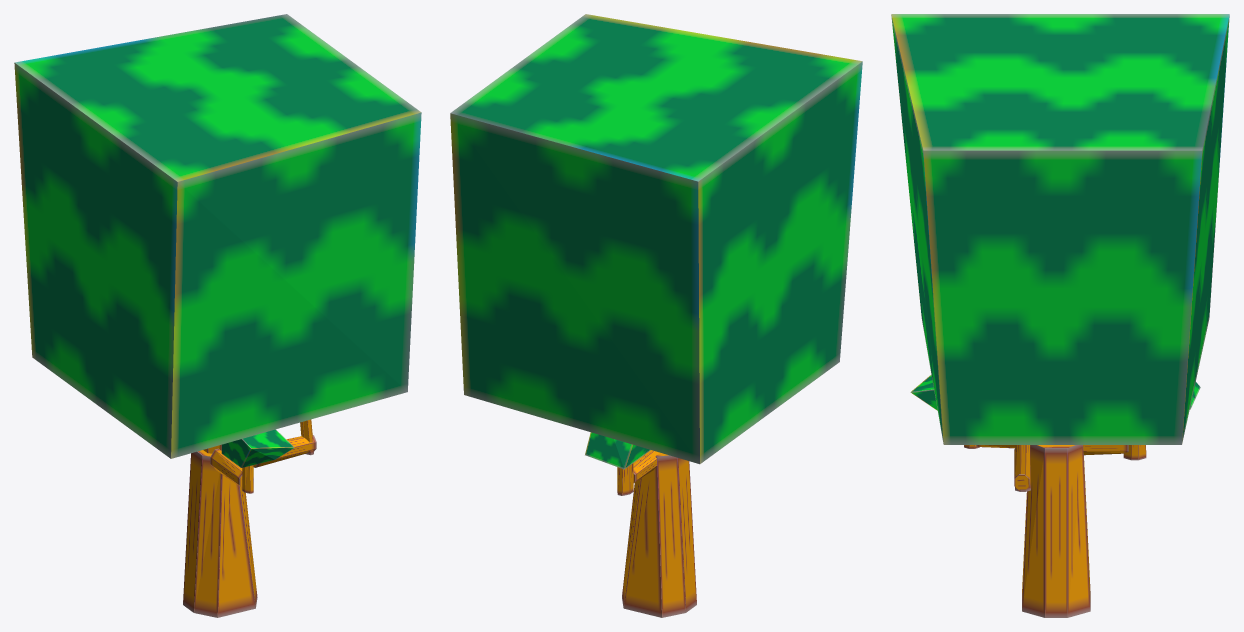
The model's file is Tree-3.gltf.
3 renders of one model, left to right at view 1: azimuth 30°, elevation 25°; view 2: azimuth 150°, elevation 25°; view 3: azimuth 270°, elevation 25°, orthographic. The views are drawn at different scales.
Size of the model in its own units: 7.65 by 14.29 by 8.33.
Materials: 1 (1 with a texture image).
